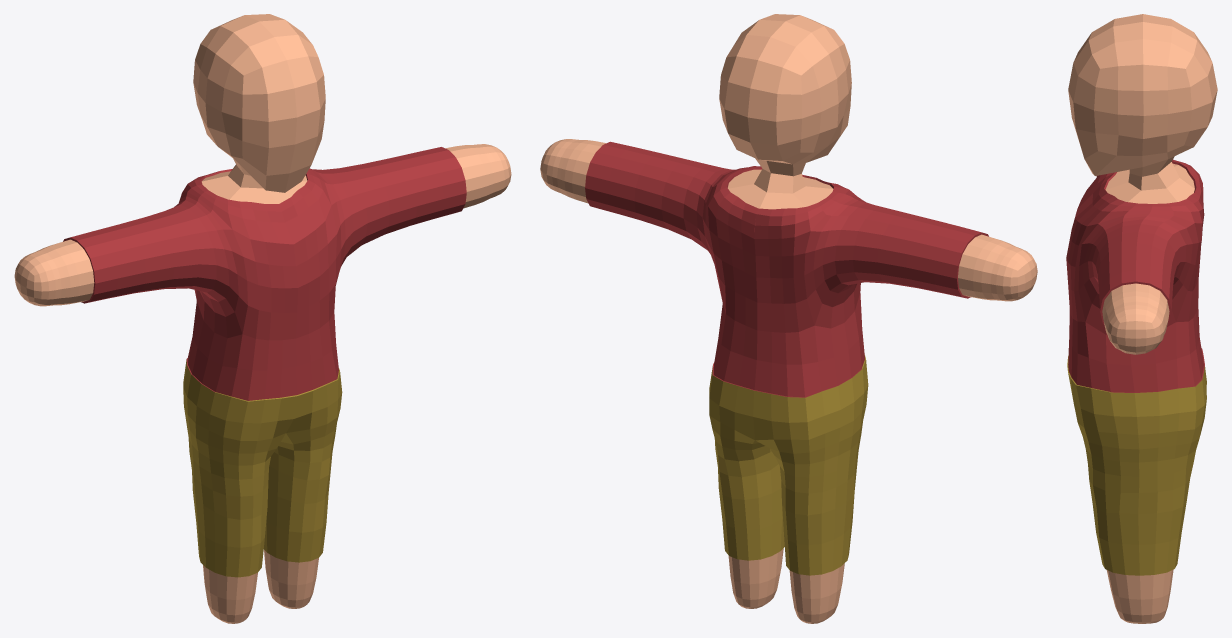
Rendered from Mod14.glb.
The picture shows the model from 3 angles, left to right: view 1: azimuth 30°, elevation 25°; view 2: azimuth 150°, elevation 25°; view 3: azimuth 270°, elevation 25°; orthographic projection.
Visible parts, largest first — view 1: Modelo 5b; view 2: Modelo 5b; view 3: Modelo 5b.
Part boxes in pixels (x1,y1,x2,y2): Modelo 5b: [14, 14, 511, 623]; Modelo 5b: [540, 14, 1037, 623]; Modelo 5b: [1066, 14, 1217, 623].
Bounding box in the file's own units: 7.96 × 9.2 × 2.17.
